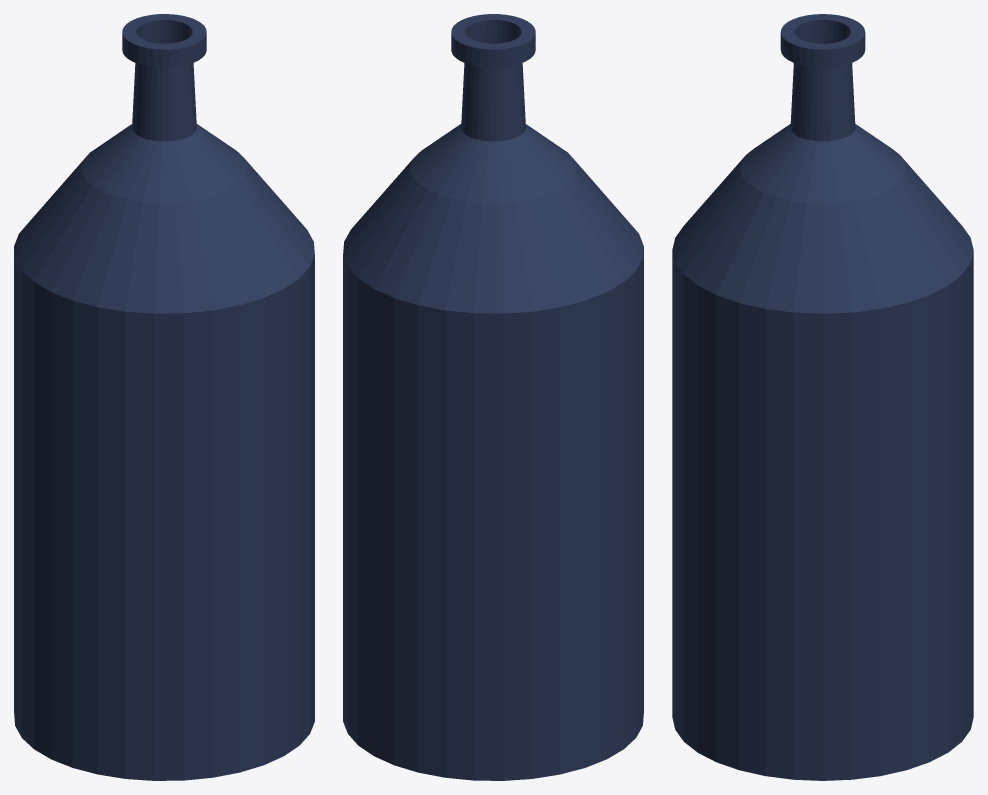
File: bottle.fbx
3 renders of one model, left to right at view 1: azimuth 30°, elevation 25°; view 2: azimuth 150°, elevation 25°; view 3: azimuth 270°, elevation 25°, orthographic.
Visible parts, largest first — view 1: Cylinder; view 2: Cylinder; view 3: Cylinder.
Part boxes in pixels (x1,y1,x2,y2): Cylinder: (14,14,314,780); Cylinder: (343,14,643,780); Cylinder: (672,14,973,780).
Bounding box in the file's own units: 8.86 × 22.23 × 8.86.
